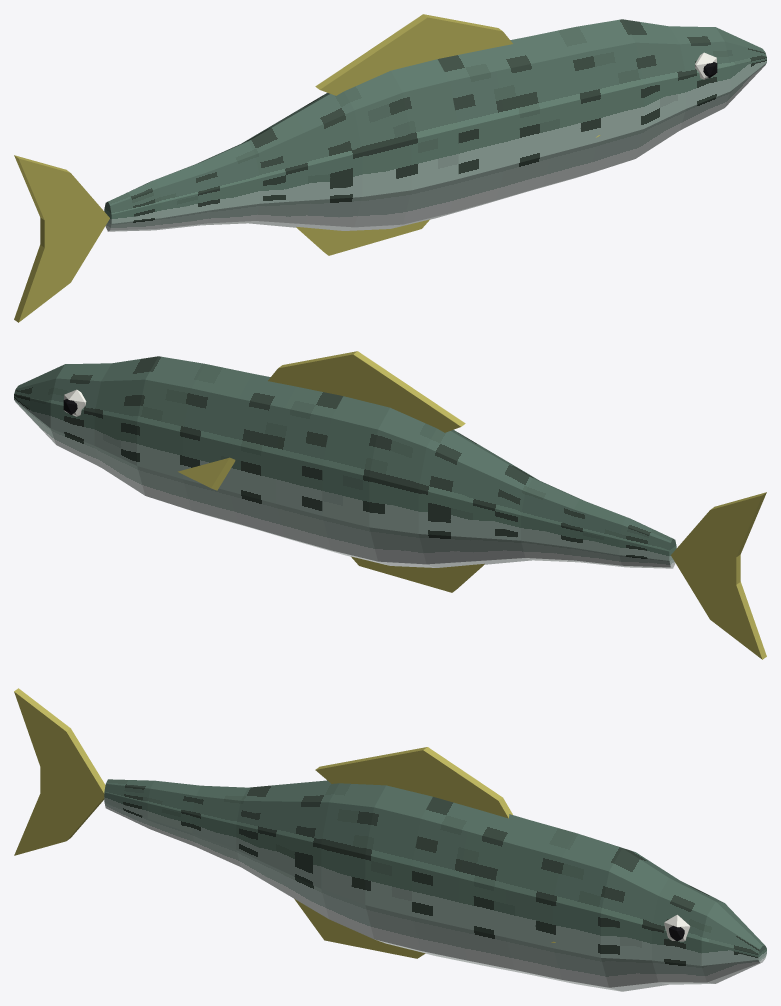
Rendered from tommy_ruff.glb.
3 views of the same model, one above another, from view 1: azimuth 30°, elevation 25°; view 2: azimuth 150°, elevation 25°; view 3: azimuth 330°, elevation 25° (orthographic).
Parts seen in each view (by area): view 1: fish_tommy_ruff; view 2: fish_tommy_ruff; view 3: fish_tommy_ruff.
Part boxes in pixels (left/top/right/bottom): fish_tommy_ruff: left=14, top=14, right=766, bottom=322; fish_tommy_ruff: left=14, top=351, right=766, bottom=659; fish_tommy_ruff: left=14, top=688, right=766, bottom=991.
Size of the model in its own units: 1.14 by 0.3129 by 0.1501.
4 materials, 1 textured.
